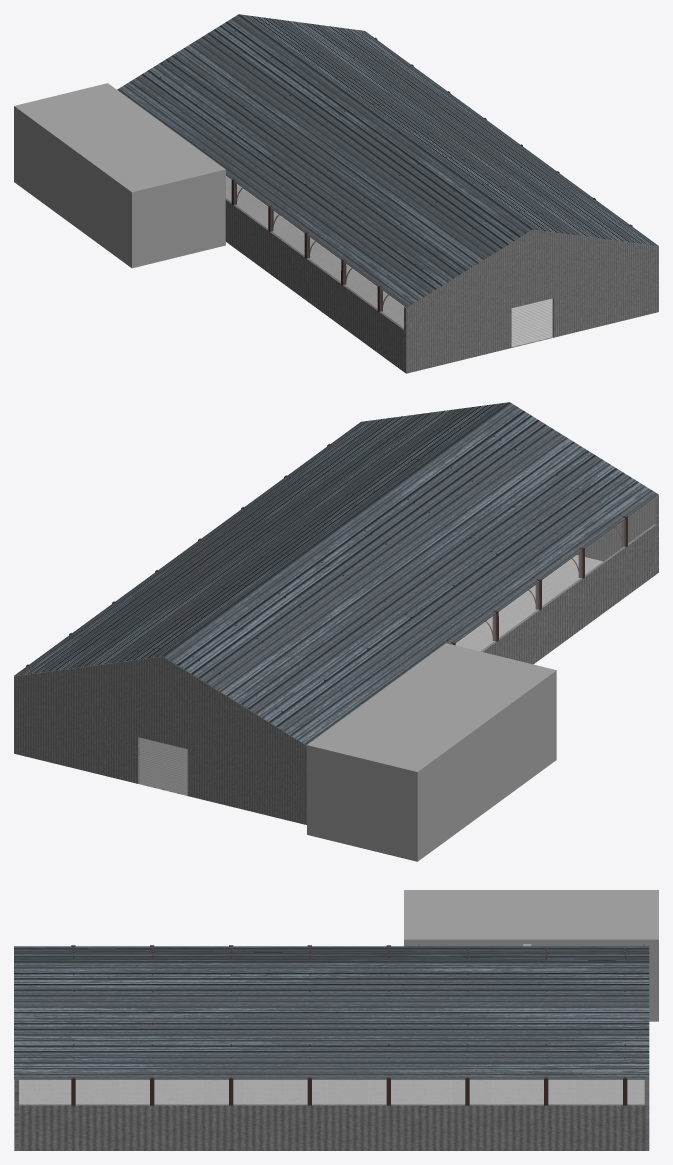
File: Lineal.fbx
The picture shows the model from 3 angles, top to bottom: view 1: azimuth 30°, elevation 25°; view 2: azimuth 150°, elevation 25°; view 3: azimuth 270°, elevation 25°; orthographic projection. The views are drawn at different scales.
Visible parts, largest first — view 1: pPlane6, pCube20, pPlane5, polySurface34, polySurface31, polySurface27, polySurface29, pCube1, polySurface33; view 2: pPlane6, pCube20, pPlane5, polySurface32, polySurface31, polySurface27, polySurface29, pCube2, polySurface34, polySurface33; view 3: pPlane5, polySurface30, polySurface29, pCube20, polySurface28, pPlane6, polySurface33.
Boxes of the visible parts, x1,y1,x2,y2 form: pPlane6: (117, 14, 532, 307); pCube20: (14, 83, 225, 268); pPlane5: (239, 14, 658, 246); polySurface34: (404, 229, 658, 373); polySurface31: (225, 198, 403, 371); polySurface27: (226, 176, 403, 329); polySurface29: (226, 176, 404, 327); pCube1: (511, 298, 552, 346); polySurface33: (128, 22, 632, 312); pPlane6: (163, 402, 658, 745); pCube20: (307, 643, 556, 861); pPlane5: (14, 402, 509, 675); polySurface32: (14, 656, 306, 824); polySurface31: (481, 524, 656, 664); polySurface27: (456, 497, 655, 651); polySurface29: (455, 555, 602, 651); pCube2: (139, 737, 187, 794); polySurface34: (577, 495, 658, 573); polySurface33: (26, 426, 627, 735); pPlane5: (14, 961, 649, 1079); polySurface30: (19, 1104, 649, 1150); polySurface29: (19, 1079, 644, 1104); pCube20: (404, 890, 658, 1021); polySurface28: (19, 1080, 648, 1104); pPlane6: (14, 946, 649, 961); polySurface33: (71, 945, 627, 1105).
Size of the model in its own units: 27.45 by 8.88 by 40.93.
11 materials, 4 textured.
